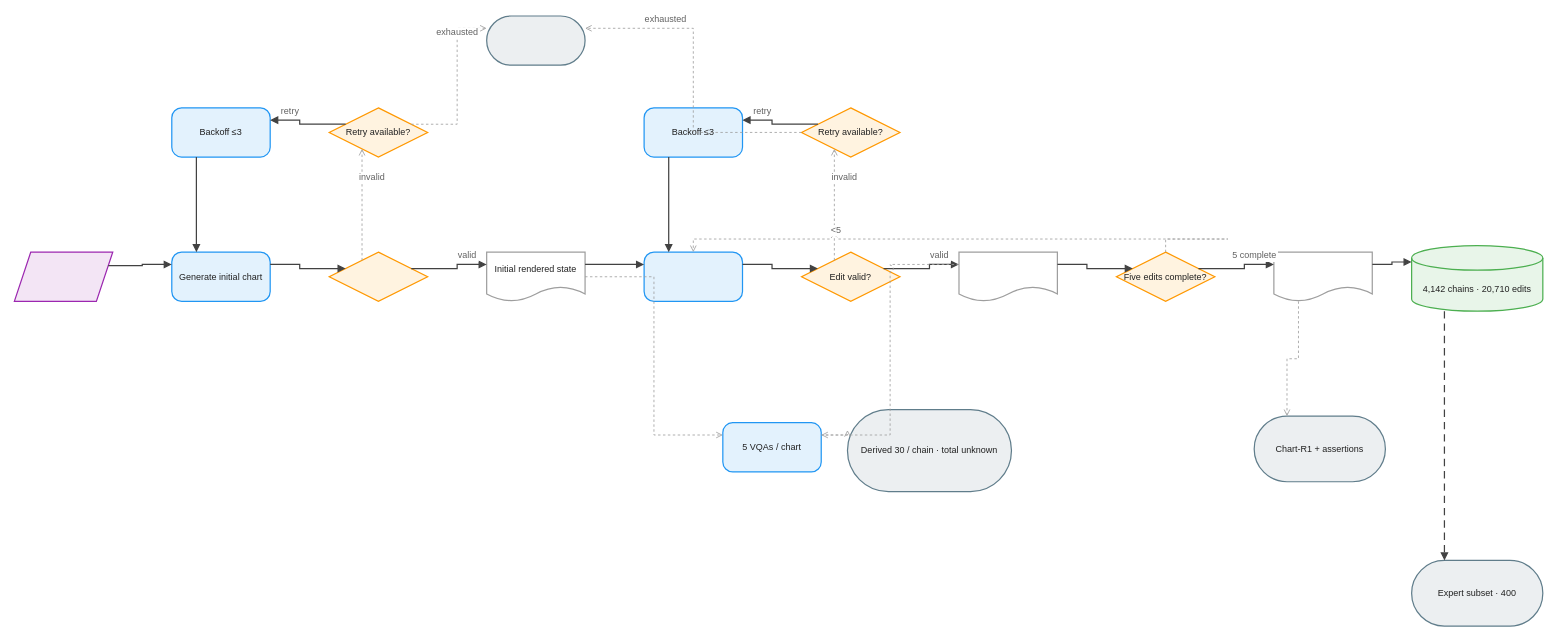
The diagram is 1558 pixels wide and 640 high, and some of its shapes have lost their labels. Here are the shapes that lost their labels. From the top down, the box of each, then its label:
(486, 15, 585, 65): Discard failed chain
(13, 251, 113, 302): Chart / edit mix
(328, 251, 428, 302): Initial valid?
(643, 251, 743, 302): Generate next edit
(958, 251, 1058, 302): Edited rendered state
(1273, 251, 1373, 302): Retained edit chain
